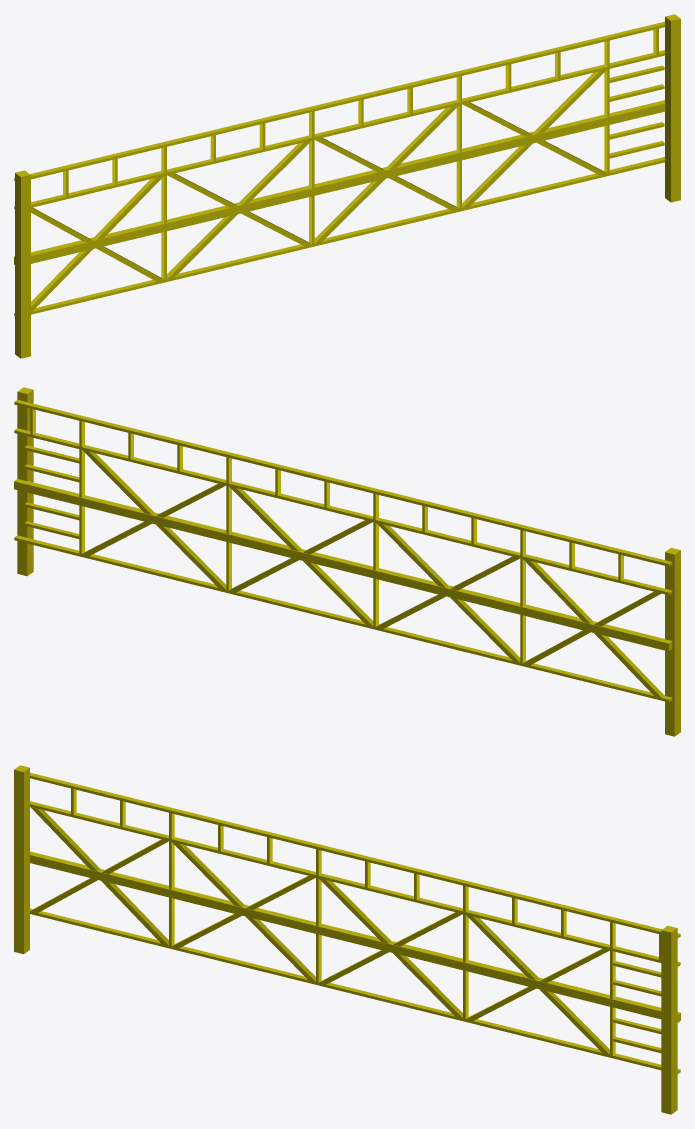
File: Barrière.FBX
The picture shows the model from 3 angles, top to bottom: view 1: azimuth 30°, elevation 25°; view 2: azimuth 150°, elevation 25°; view 3: azimuth 330°, elevation 25°; orthographic projection.
Parts seen in each view (by area): view 1: Barriere; view 2: Barriere; view 3: Barriere.
Boxes of the visible parts, bbox=[...] form: Barriere: bbox=[14, 14, 680, 358]; Barriere: bbox=[14, 387, 680, 736]; Barriere: bbox=[14, 765, 680, 1114].
Bounding box in the file's own units: 1214 × 320 × 38.61.
